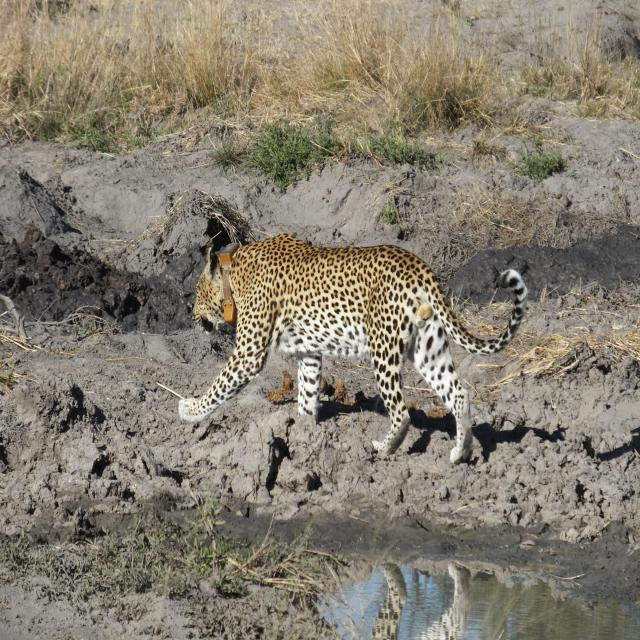Leopard: (173, 224, 531, 466)
